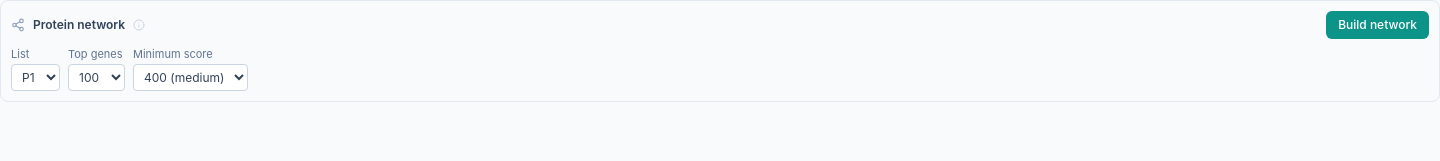
Test: ProteinNetwork › chooses among several lists and shows the server's sentence on failure
Select "P2" in the dropdown labelled "List" at (36, 77), box [11,64,60,91]
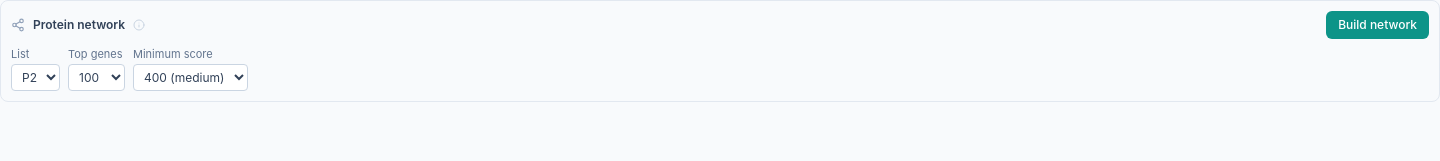
Click the button "Build network" at (1378, 25), box [1326,11,1429,39]
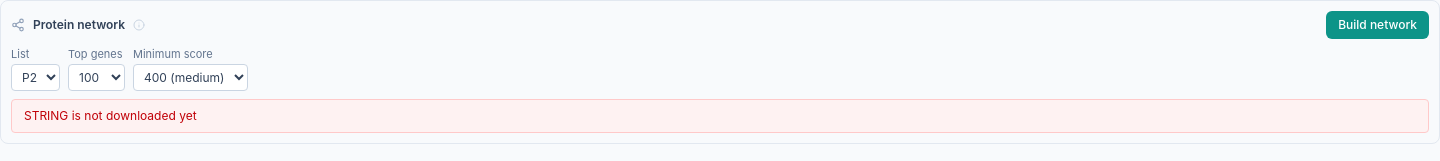
Check: the message "STRING is not downloaded yet" is shown, box [11,99,1429,133]
Check: the message reads "STRING is not downloaded yet", box [24,108,197,123]
